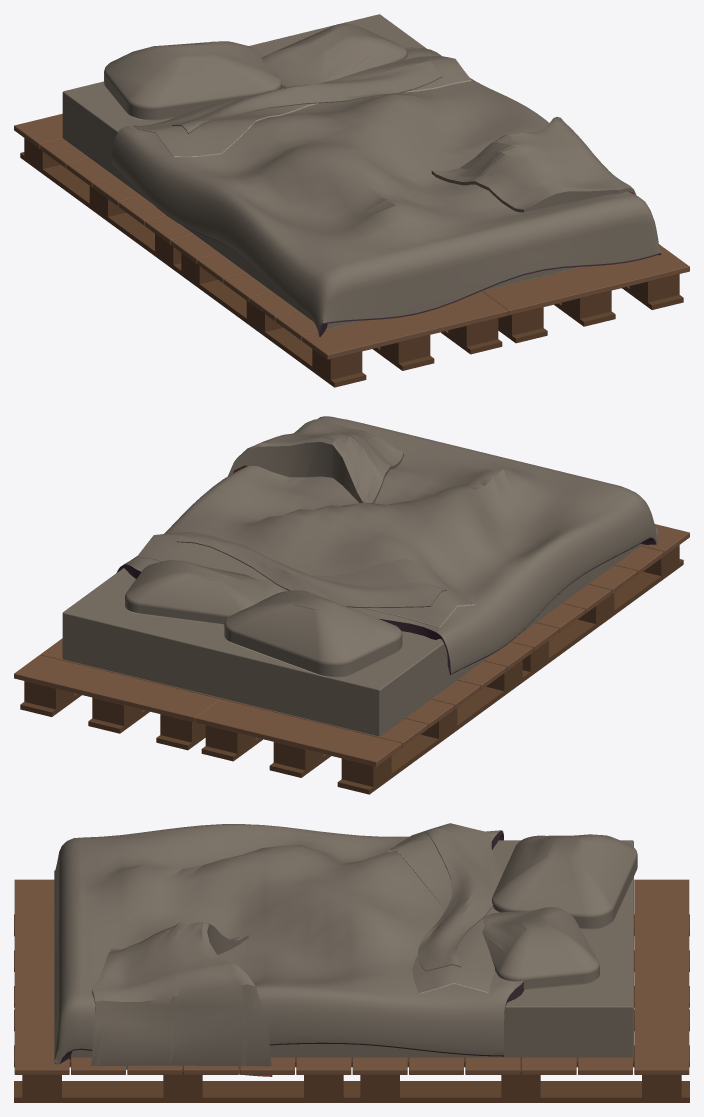
File: pallet-bed-118e16ef1825.glb
The picture shows the model from 3 angles, top to bottom: view 1: azimuth 30°, elevation 25°; view 2: azimuth 150°, elevation 25°; view 3: azimuth 270°, elevation 25°; orthographic projection. The views are drawn at different scales.
Parts seen in each view (by area): view 1: cover-cloth, wood-walnut, wood-walnut-dark, cloth-plum, cloth-cream; view 2: cover-cloth, wood-walnut, wood-walnut-dark, cloth-cream, cloth-plum; view 3: cover-cloth, wood-walnut, wood-walnut-dark, cloth-cream, cloth-plum.
Part boxes in pixels (x1,y1,x2,y2): cover-cloth: (62,14,661,336); wood-walnut: (14,113,689,359); wood-walnut-dark: (20,138,683,387); cloth-plum: (112,103,660,336); cloth-cream: (64,80,582,329); cover-cloth: (62,416,658,736); wood-walnut: (14,524,689,766); wood-walnut-dark: (20,545,683,794); cloth-cream: (63,546,639,736); cloth-plum: (116,537,656,674); cover-cloth: (54,823,637,1075); wood-walnut: (14,879,689,1074); wood-walnut-dark: (14,914,689,1102); cloth-cream: (71,833,632,1057); cloth-plum: (54,830,524,1063).
Bounding box in the file's own units: 1.6 × 0.5246 × 2.4.
